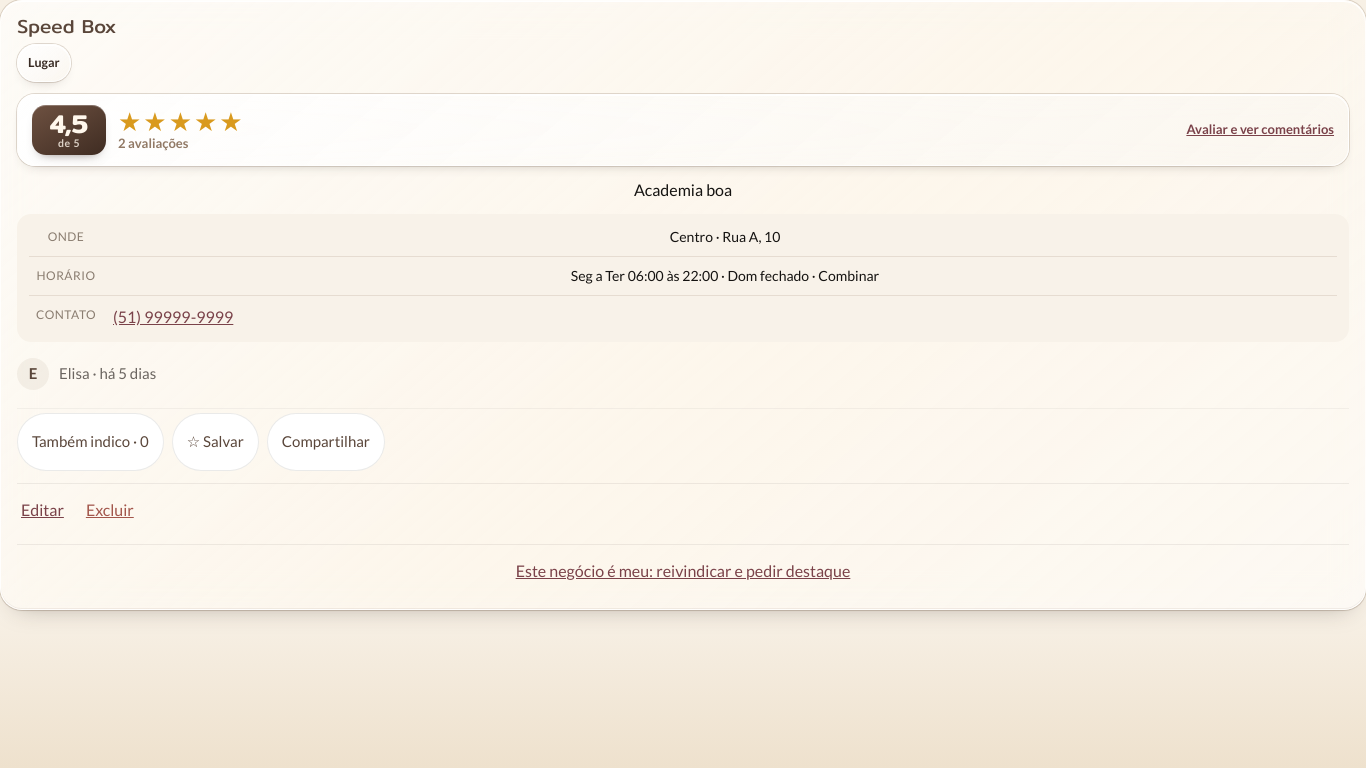
Test: CityListingCard › quem criou não avalia o próprio cadastro; as demais veem o formulário de nota
Later steps or results of the test are not shown.
Step 1. Click the button "4,5 de 5 ★ ★ ★ ★ ★ 2 avaliações Avaliar e ver comentários" → (69, 130), box [17,94,1349,166]
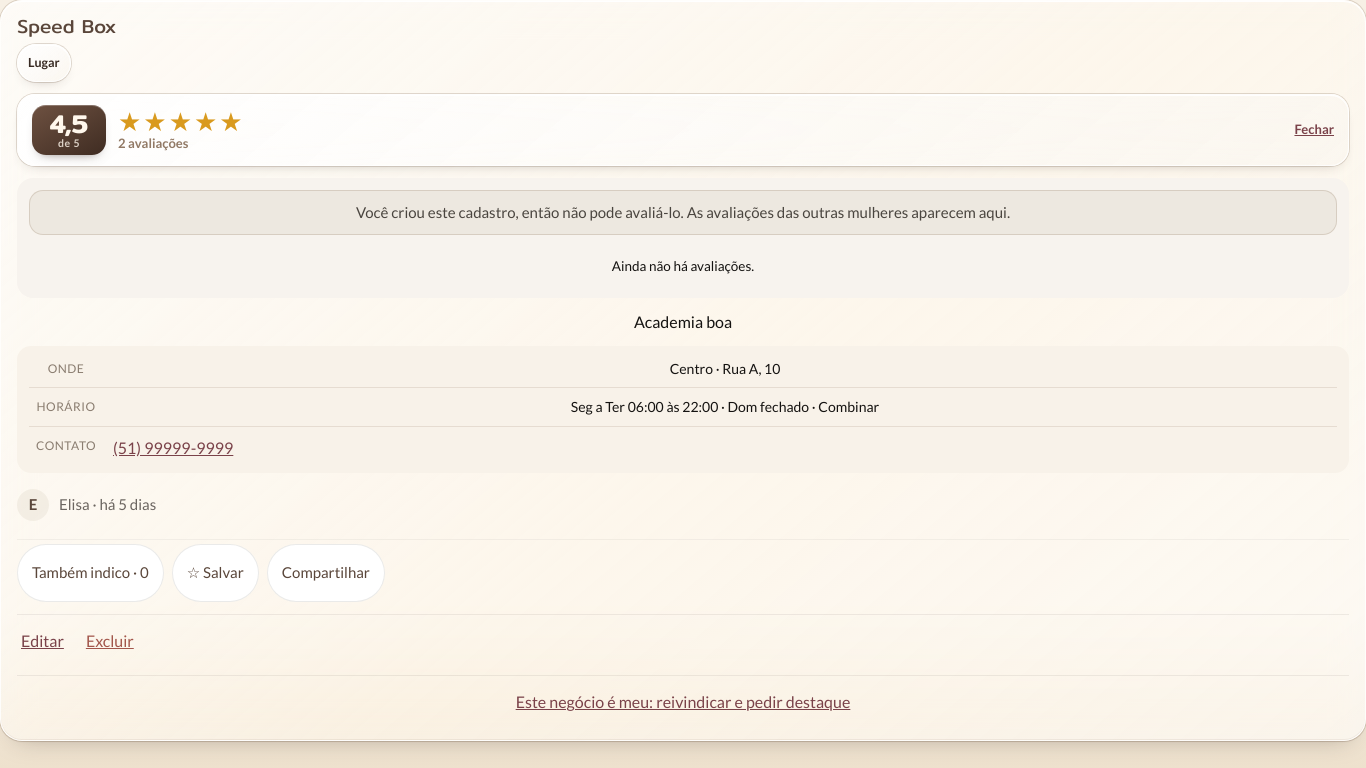
Result: the text "não pode avaliá-lo" is shown at [356,203,1010,221]
